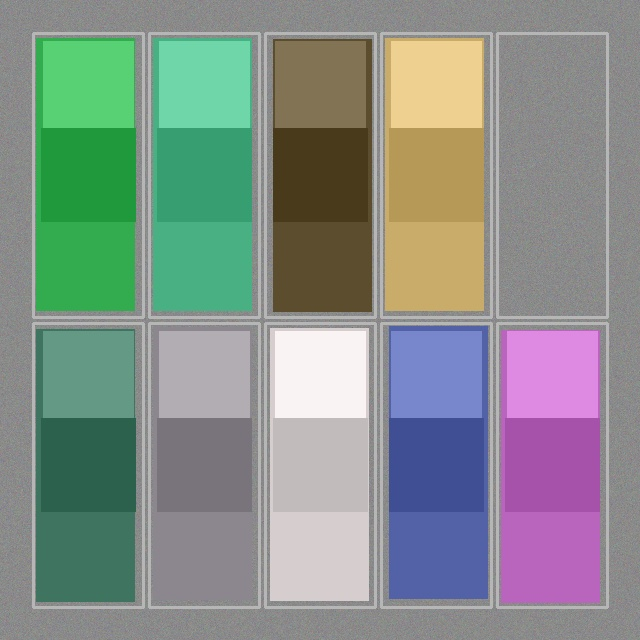space-empty: (499, 35, 605, 315)
space-occupied: (35, 35, 141, 315), (151, 35, 257, 315), (267, 35, 373, 315), (383, 35, 489, 315), (35, 325, 141, 605), (151, 325, 257, 605), (267, 325, 373, 605), (383, 325, 489, 605), (499, 325, 605, 605)
